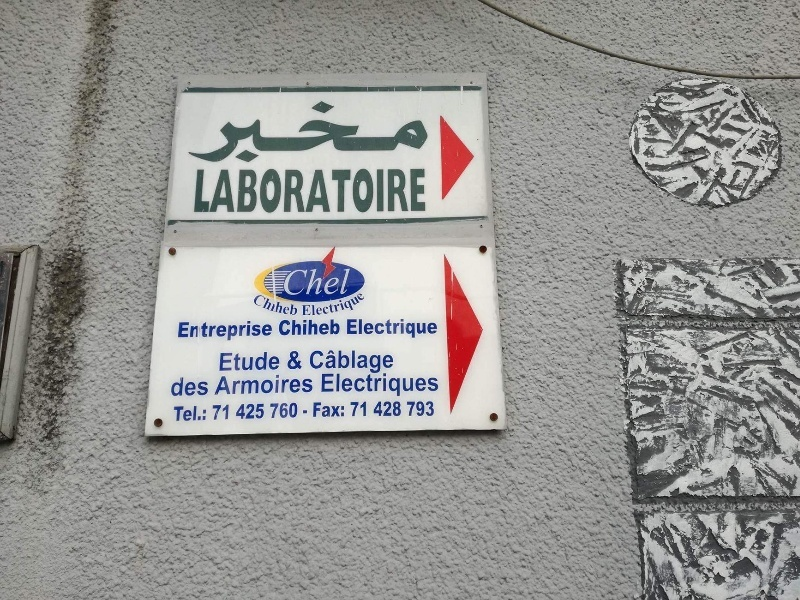text: (193, 97, 208, 163), (209, 97, 224, 163), (225, 97, 240, 163), (241, 97, 256, 163), (257, 97, 272, 163), (273, 97, 288, 163), (289, 97, 304, 163), (305, 97, 320, 163), (321, 97, 336, 163), (337, 97, 352, 163), (353, 97, 368, 163), (369, 97, 384, 163), (385, 97, 400, 163), (401, 97, 416, 163), (417, 97, 432, 163), (209, 168, 224, 214), (225, 168, 240, 214), (241, 168, 256, 214), (257, 168, 272, 214), (273, 168, 288, 214), (289, 168, 304, 214), (305, 168, 320, 214), (321, 168, 336, 214), (337, 168, 352, 214), (353, 168, 368, 214), (369, 168, 384, 214), (385, 168, 400, 214), (401, 168, 416, 214), (196, 168, 208, 214), (417, 168, 427, 214), (337, 268, 353, 296), (305, 294, 320, 323), (321, 294, 336, 323), (337, 294, 352, 323), (353, 294, 368, 323), (289, 268, 304, 296), (305, 268, 320, 296), (321, 268, 336, 296), (321, 349, 336, 375), (337, 349, 352, 375), (353, 349, 368, 375), (369, 349, 384, 375), (321, 373, 336, 399), (337, 373, 352, 399), (353, 373, 368, 399), (369, 373, 384, 399), (385, 373, 400, 399), (401, 373, 416, 399), (417, 373, 432, 399), (257, 321, 273, 344), (257, 295, 272, 319), (273, 295, 288, 319), (193, 321, 208, 344), (209, 321, 224, 344), (225, 321, 240, 344), (241, 321, 256, 344), (193, 377, 209, 398), (225, 373, 240, 395), (241, 373, 256, 395), (257, 373, 272, 395), (273, 373, 288, 395), (289, 373, 304, 395), (353, 319, 368, 341), (369, 319, 384, 341), (385, 319, 400, 341), (401, 319, 416, 341), (417, 319, 432, 341), (225, 351, 240, 373), (241, 351, 256, 373), (257, 351, 272, 373), (178, 321, 192, 344), (289, 349, 303, 372), (177, 377, 192, 398), (309, 349, 320, 375), (177, 404, 192, 423), (289, 319, 304, 337), (305, 319, 320, 337), (321, 319, 336, 337), (321, 402, 336, 420), (193, 404, 207, 423), (289, 295, 300, 319), (241, 404, 256, 420), (273, 403, 288, 419), (385, 402, 401, 417), (417, 401, 432, 417), (353, 401, 367, 418), (385, 349, 394, 375), (305, 373, 315, 395), (212, 405, 224, 421), (273, 351, 281, 373), (373, 402, 384, 417), (279, 319, 288, 337), (337, 402, 346, 420), (289, 403, 299, 419), (406, 401, 416, 417), (257, 404, 266, 420), (433, 373, 438, 399), (313, 402, 320, 420), (347, 319, 352, 341), (433, 319, 438, 341), (220, 351, 224, 373), (301, 294, 304, 323), (369, 294, 372, 323), (172, 377, 176, 398), (225, 405, 230, 421), (235, 404, 240, 420), (337, 319, 341, 337), (305, 407, 311, 415), (222, 373, 224, 395), (174, 404, 176, 423), (270, 403, 272, 419), (433, 401, 435, 417), (301, 407, 304, 415), (287, 349, 288, 372), (351, 401, 352, 418)
